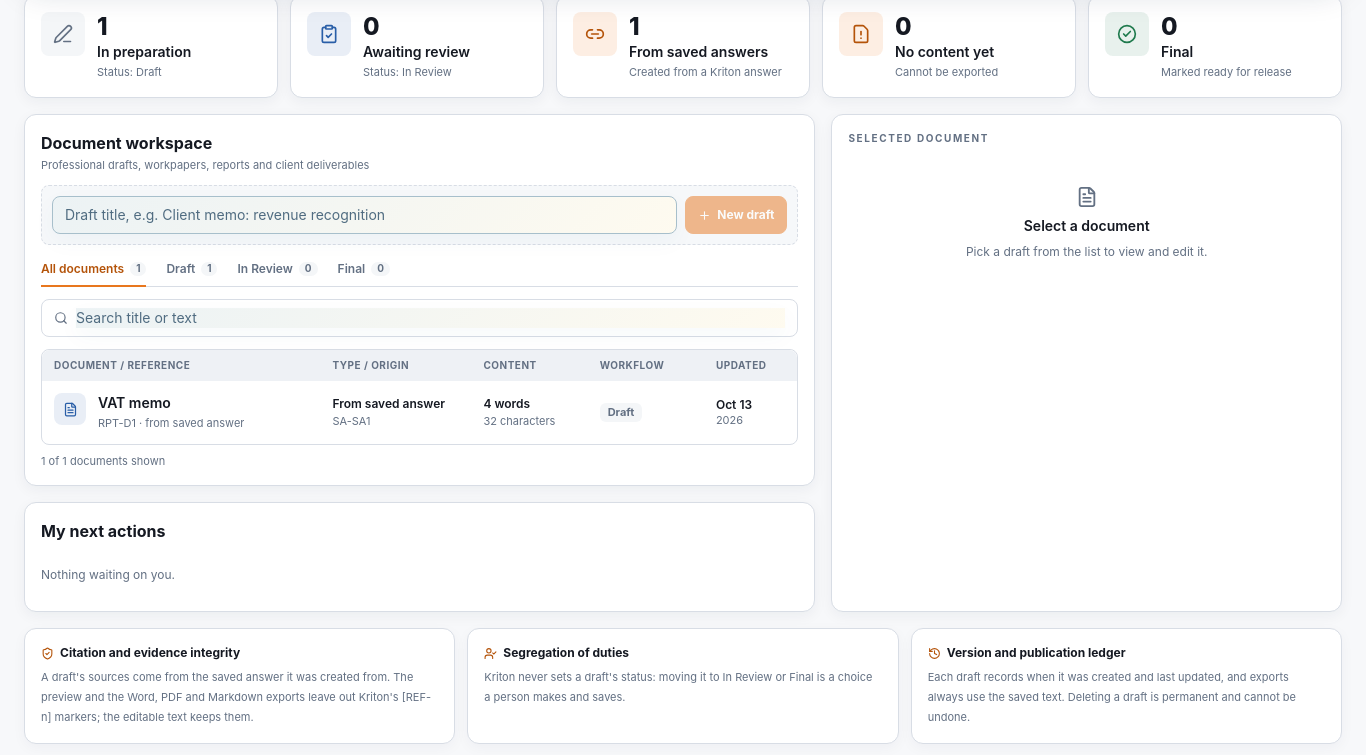
Drafts & Reports › leaves citation markers out of the preview but keeps them in the text
(page scrolled)
Click the text "VAT memo" at (134, 402), box [98, 394, 171, 411]
(page scrolled)
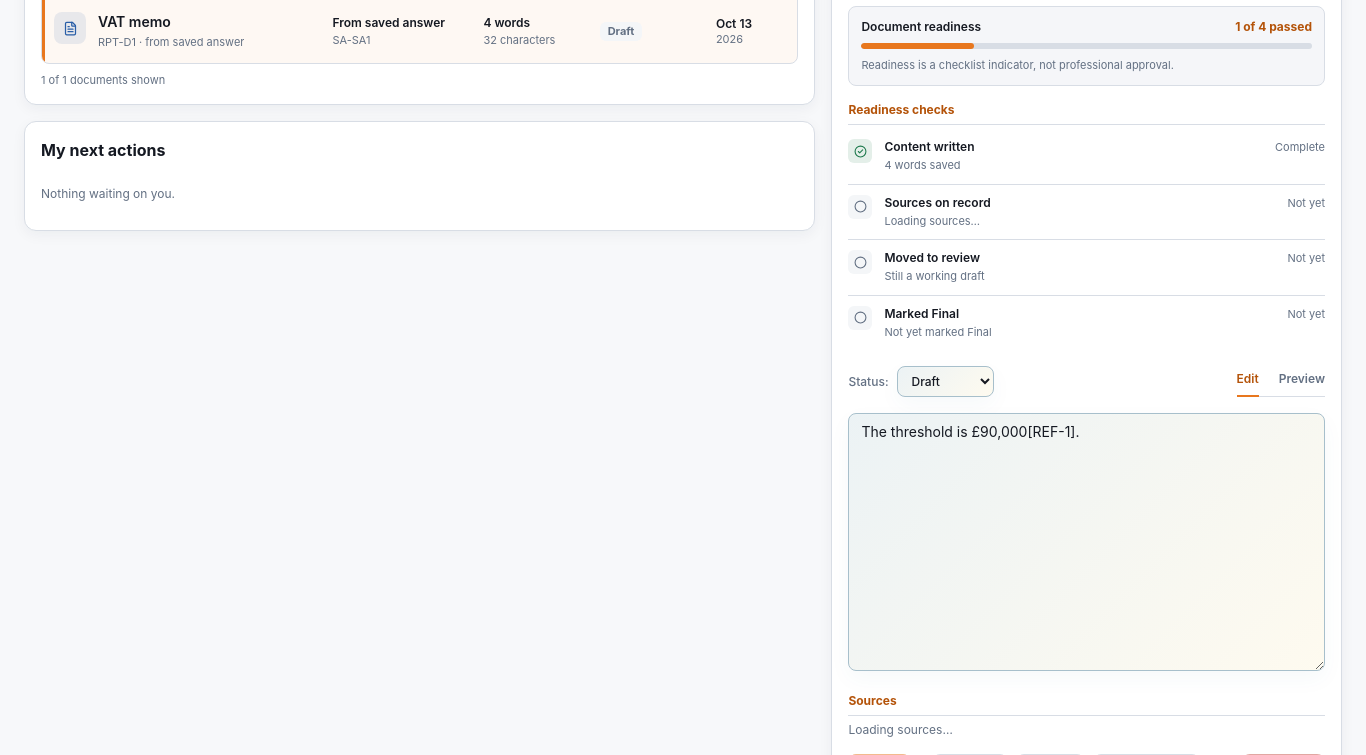
Now the text box with placeholder "Draft content…" holds "The threshold is £90,000[REF-1].", box [848, 413, 1325, 671]
Click the tab "Preview" at (1302, 384), box [1279, 371, 1325, 397]
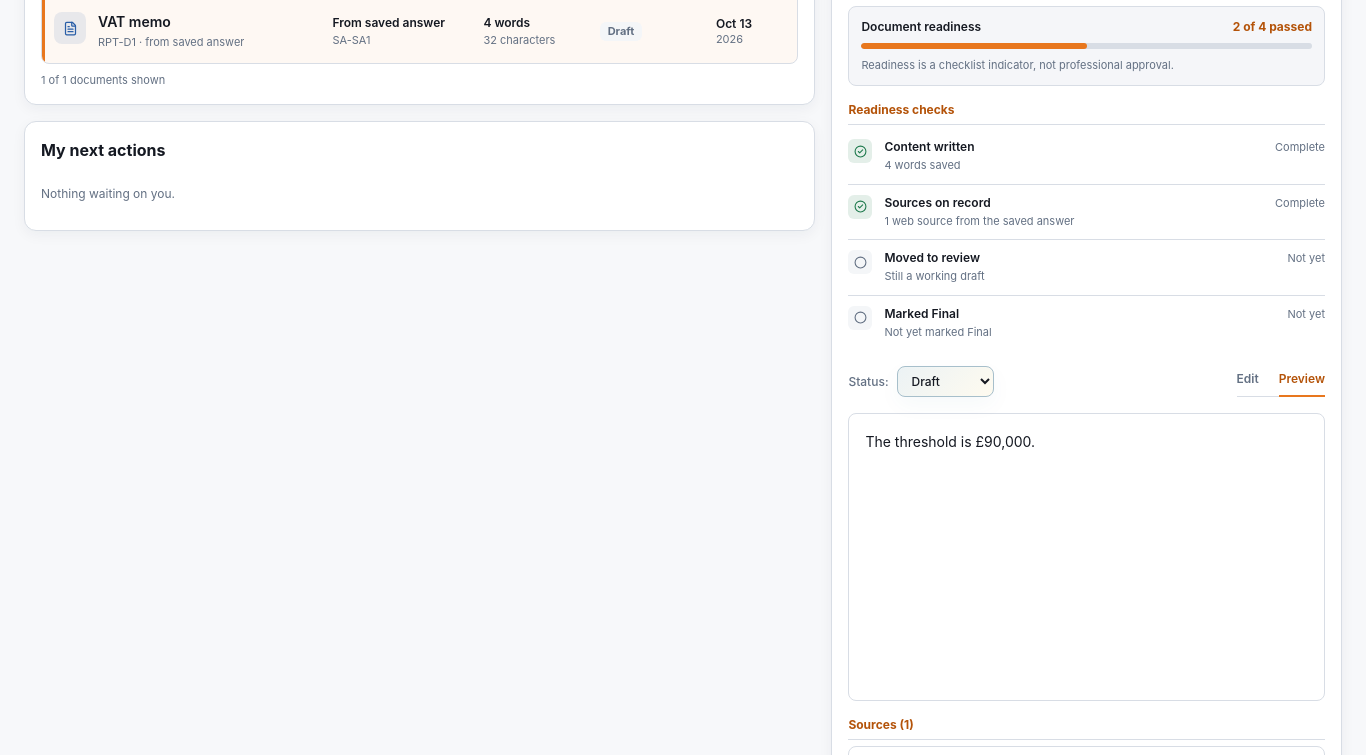
Now the text "The threshold is £90,000." is shown, box [865, 433, 1035, 450]
